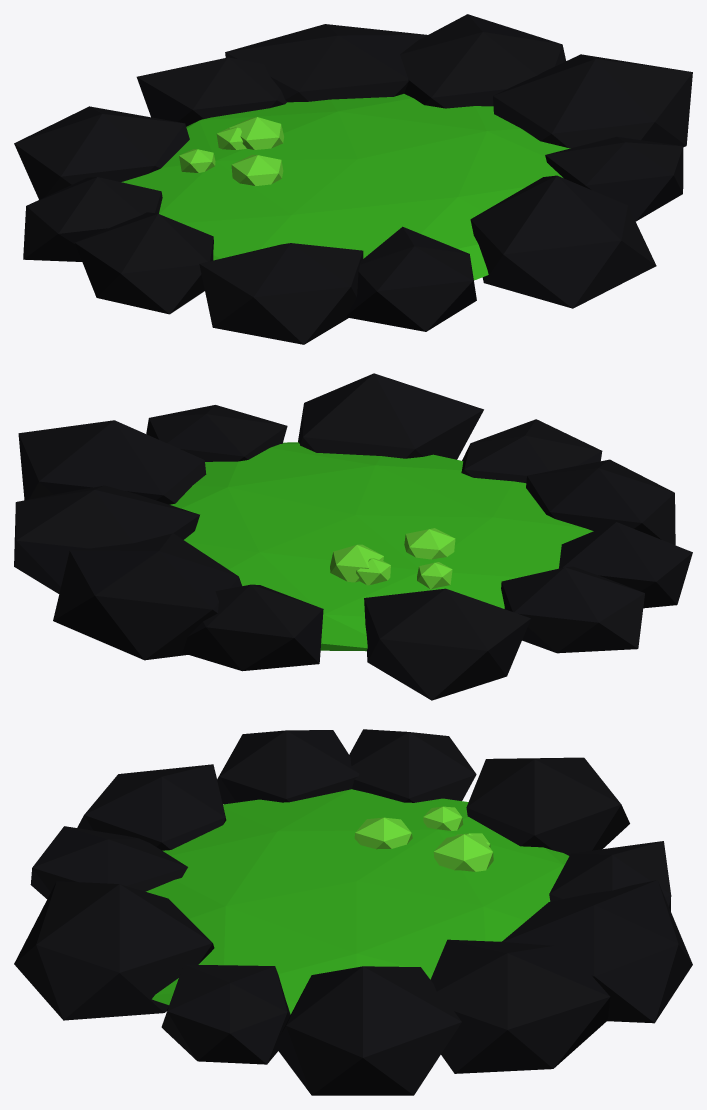
The model's file is slimepool.obj.
3 views of the same model, one above another, from view 1: azimuth 30°, elevation 25°; view 2: azimuth 150°, elevation 25°; view 3: azimuth 270°, elevation 25° (orthographic). The views are drawn at different scales.
Parts seen in each view (by area): view 1: Rim, Slime, Bubbles; view 2: Rim, Slime, Bubbles; view 3: Rim, Slime, Bubbles.
Boxes of the visible parts, x1,y1,x2,y2 form: Rim: (14, 14, 692, 344); Slime: (121, 94, 570, 280); Bubbles: (179, 117, 283, 185); Rim: (14, 373, 692, 700); Slime: (170, 442, 593, 651); Bubbles: (330, 528, 455, 589); Rim: (14, 729, 692, 1095); Slime: (146, 789, 569, 1014); Bubbles: (354, 806, 493, 871).
Size of the model in its own units: 7 by 0.9258 by 5.84.
